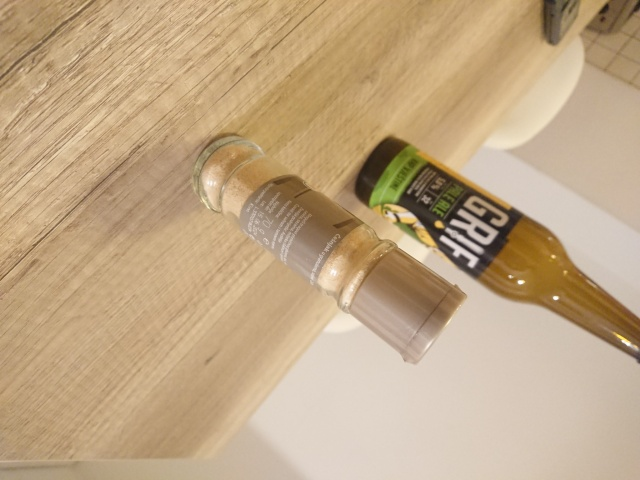Kotanyi Garlic Granules 70g: (189, 131, 470, 368)
